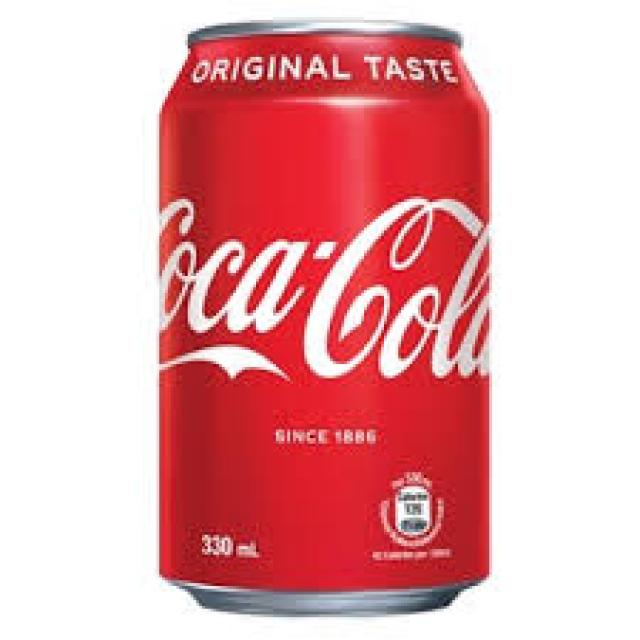aluminum_can: (159, 26, 492, 616)
